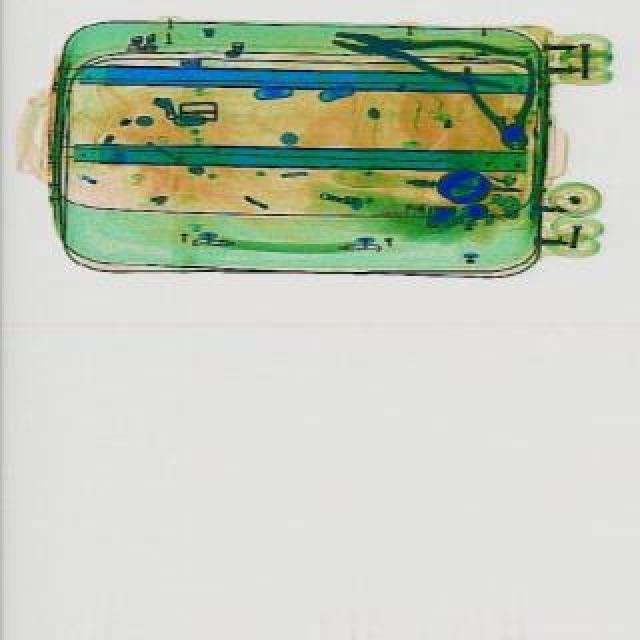wrench: (324, 20, 524, 96), (460, 58, 542, 158)
